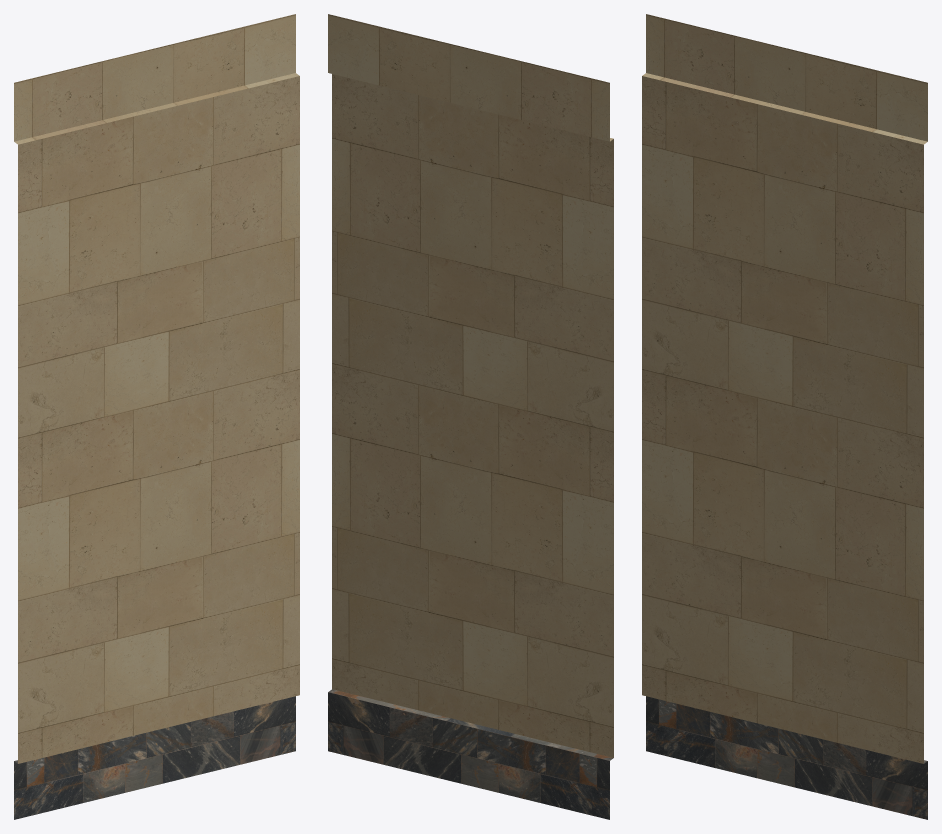
File: Wall_01_5x2.fbx
3 views of the same model, side by side, from view 1: azimuth 30°, elevation 25°; view 2: azimuth 150°, elevation 25°; view 3: azimuth 330°, elevation 25° (orthographic).
Parts seen in each view (by area): view 1: Cube.144; view 2: Cube.144; view 3: Cube.144.
Part boxes in pixels (<box>): Cube.144: <box>14,14,299,819</box>; Cube.144: <box>328,14,613,819</box>; Cube.144: <box>642,14,927,819</box>.
Size of the model in its own units: 200 by 500 by 5.
